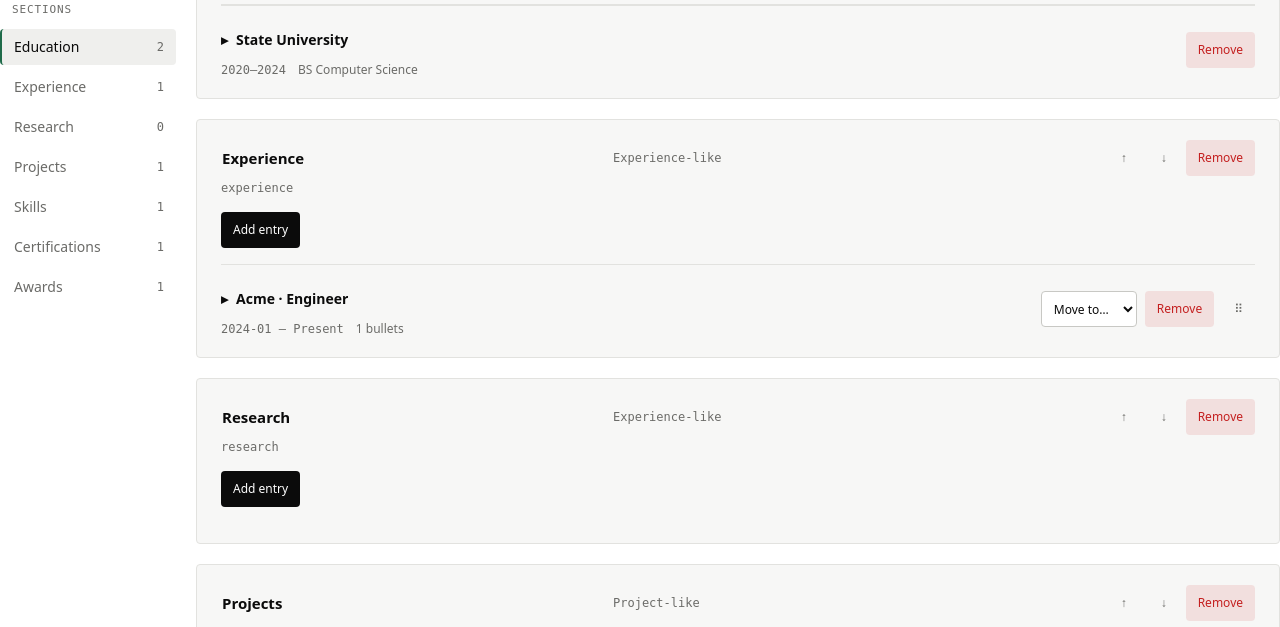
Test: shows the skills a bullet already shows and keeps Extra skills collapsed
(page scrolled)
expect the button with aria-label "Expand State University" is shown: met, box [221,22,348,58]
Click the button with aria-label "Expand Acme · Engineer".
click(285, 299)  # box [221,281,348,317]
(page scrolled)
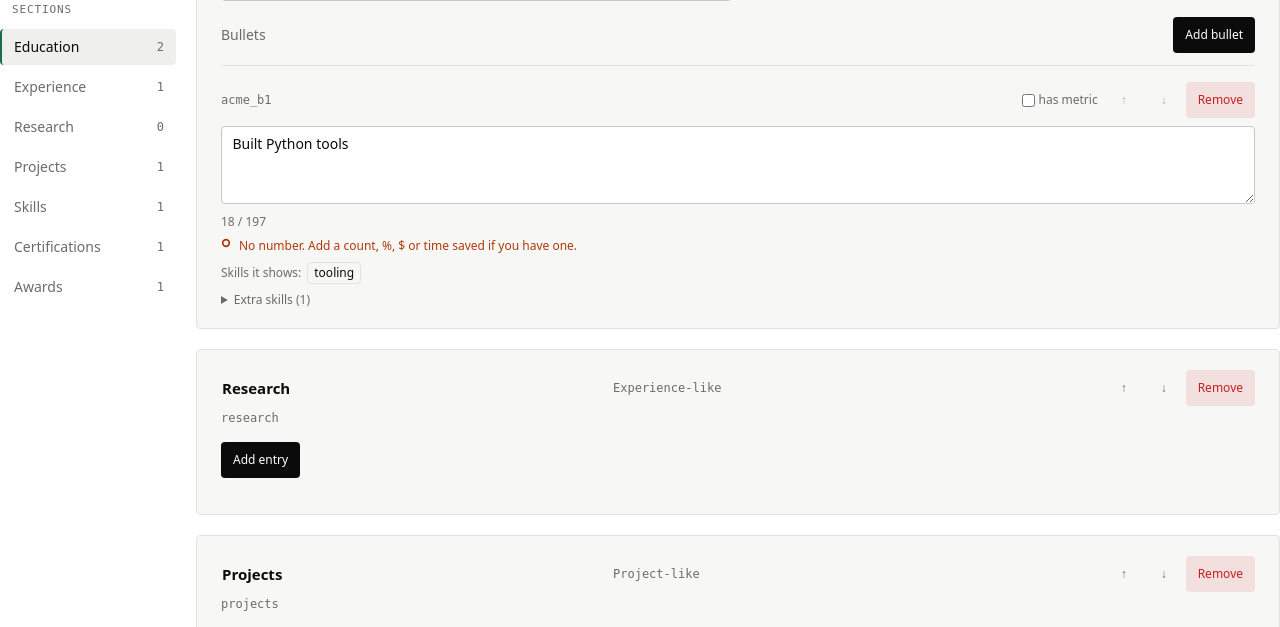
expect the text "tooling" is shown: met, box [307,262,361,284]
expect the text "Skills it shows:" is shown: met, box [221,265,301,281]
